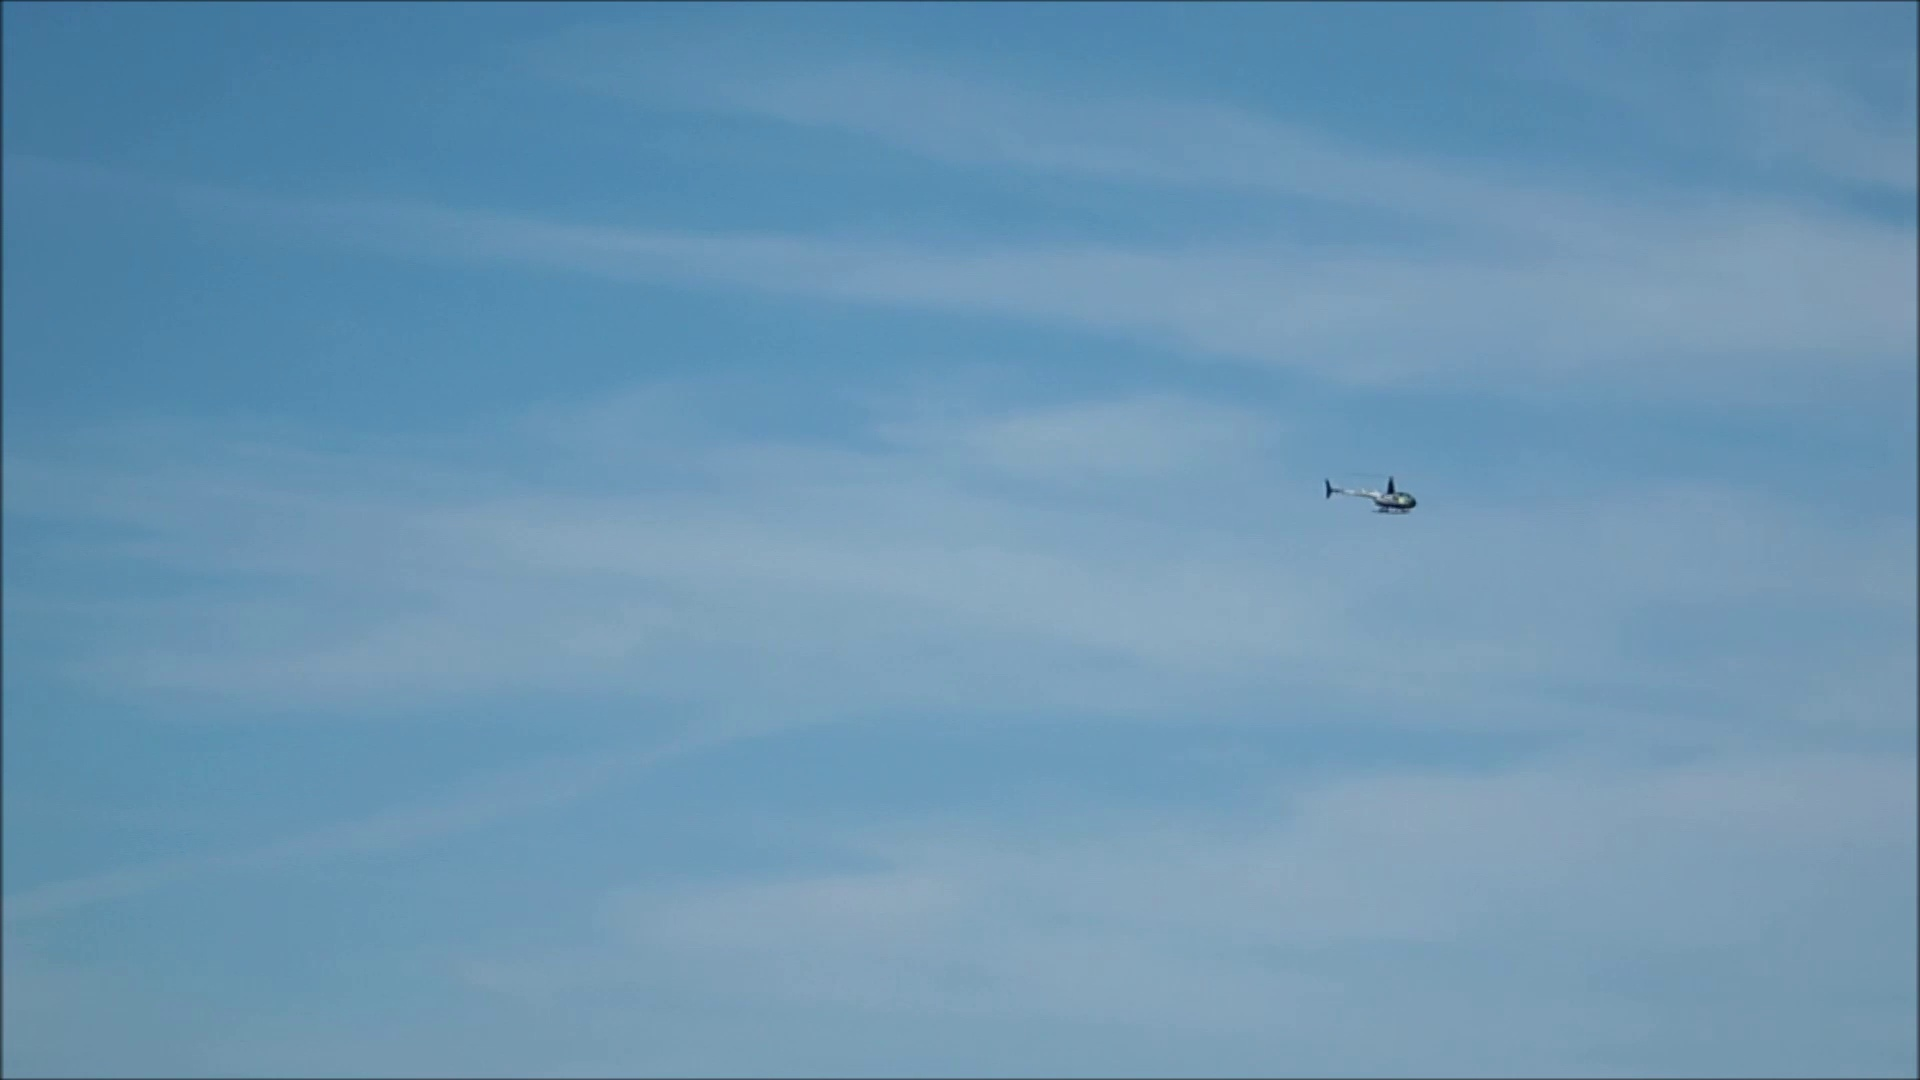heli: (1321, 469, 1419, 516)
